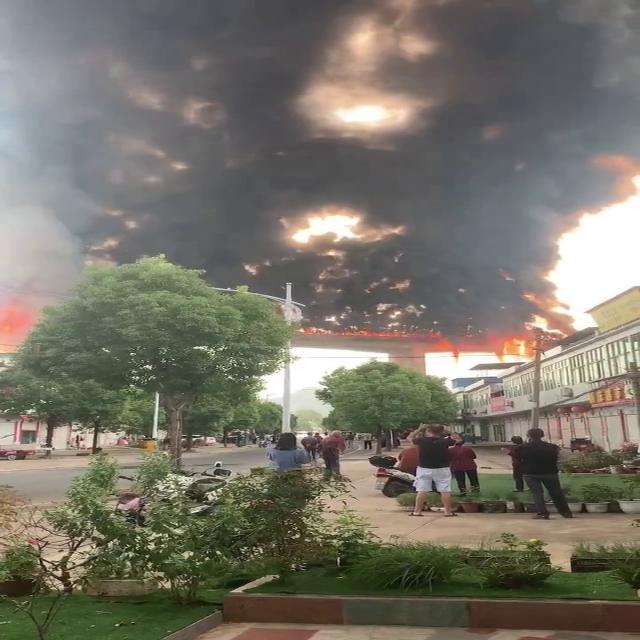Smoke: (17, 0, 640, 320)
